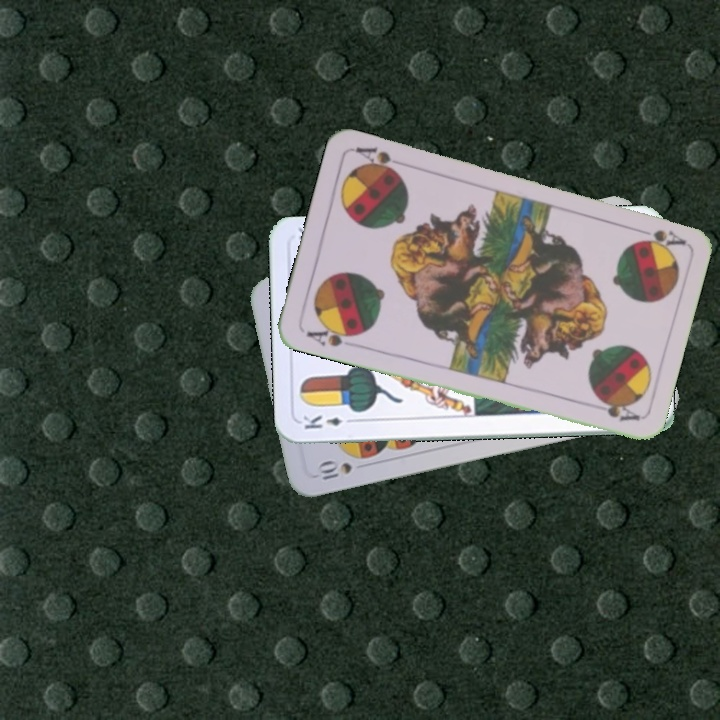EK: (299, 411, 358, 432)
S10: (313, 458, 355, 483)
SA: (302, 320, 361, 350), (629, 223, 688, 250)
